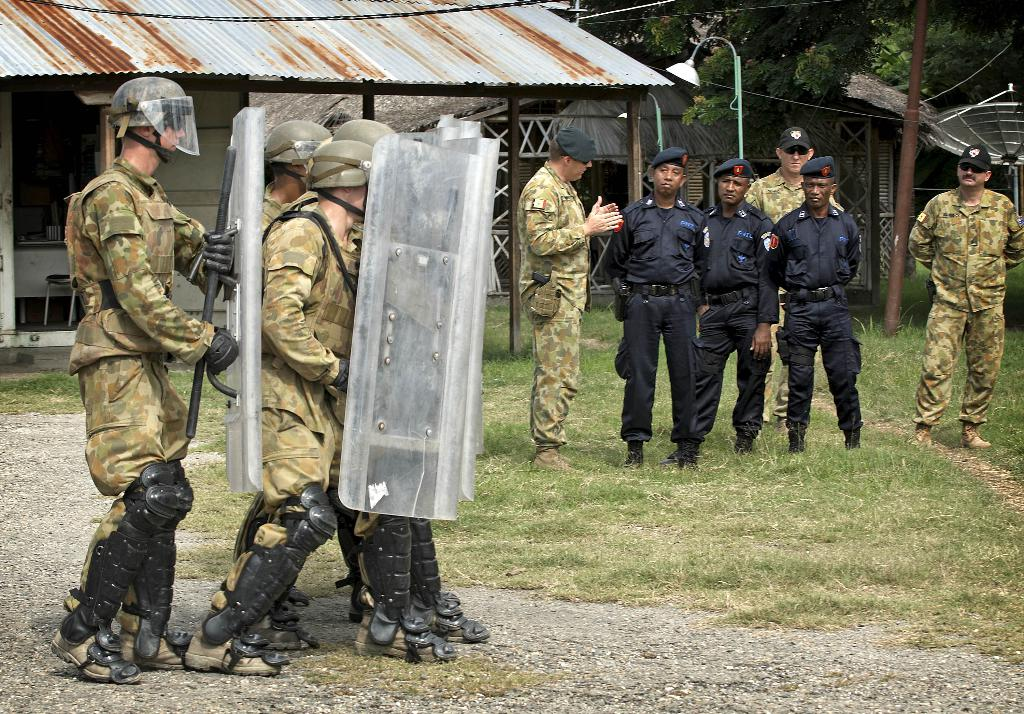Person: (183, 141, 459, 675), (229, 117, 489, 649), (66, 78, 262, 683), (45, 70, 186, 684), (201, 118, 370, 613), (512, 123, 624, 479), (907, 142, 1024, 448), (608, 146, 712, 470), (668, 158, 778, 458), (770, 153, 865, 451), (742, 131, 835, 433), (712, 157, 778, 453), (743, 124, 846, 224), (259, 121, 332, 239)
